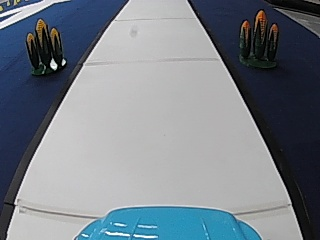corn: (236, 7, 280, 69), (24, 16, 67, 74)
